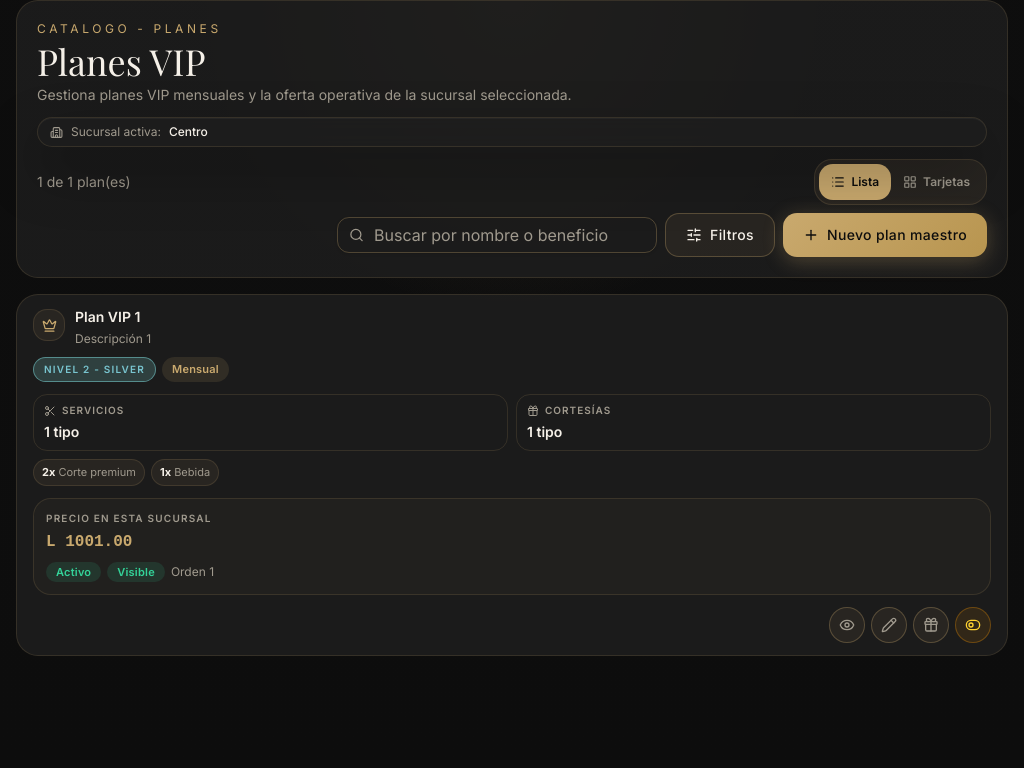
it: QA07: mensajes desconocidos no exponen errores técnicos
Expected: the heading "Plan VIP 1" is shown, [75,307,151,327]
Click the button named "Editar oferta": (931, 625) [913,607,949,643]
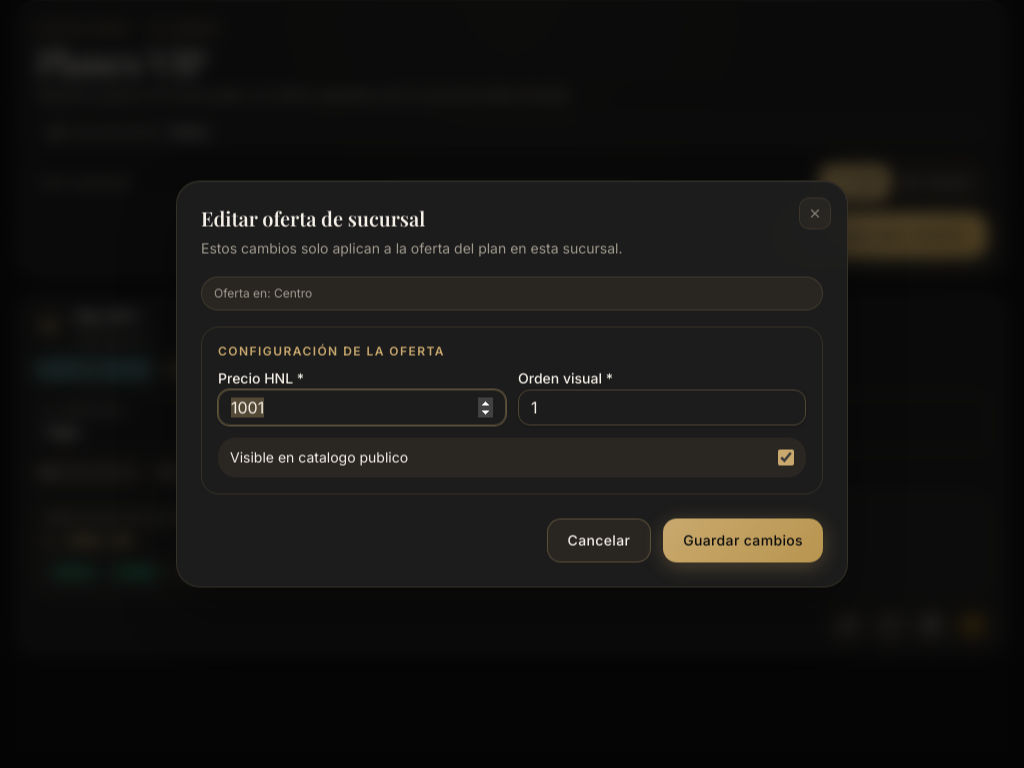
Replace the text in the number field labelled "Precio HNL *" with "1500": (362, 408) [218,390,506,426]
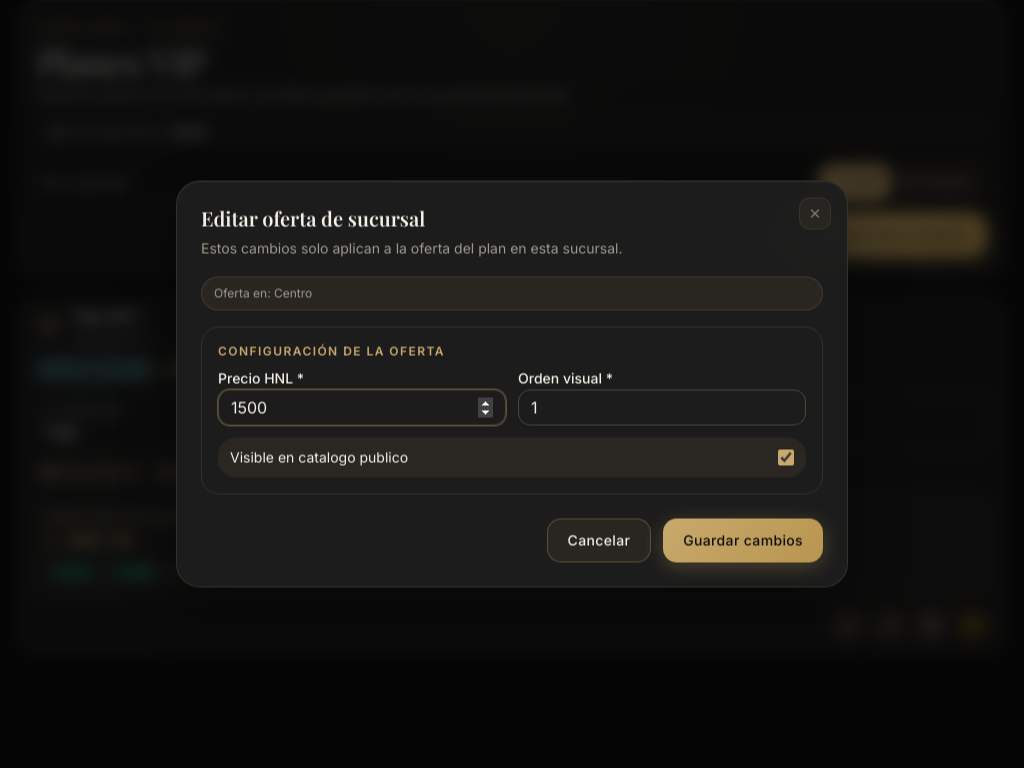
Click the button "Guardar cambios": (743, 540) [663,518,823,562]
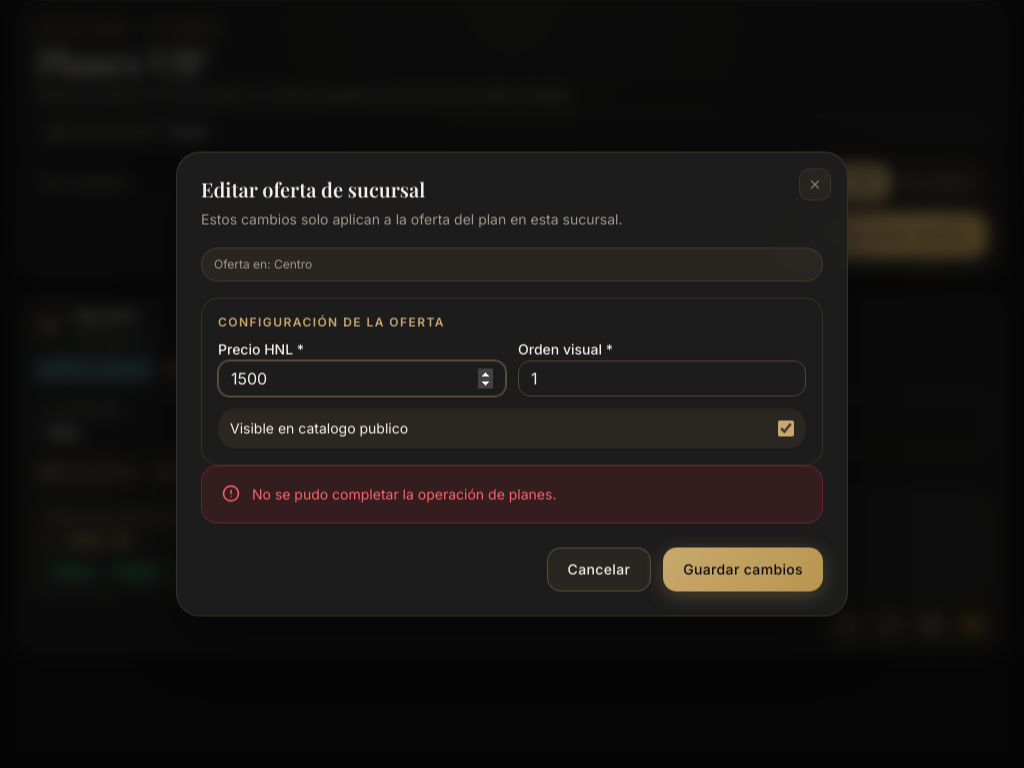
Now the message reads "No se pudo completar la operación de planes.", box [252,486,556,502]
